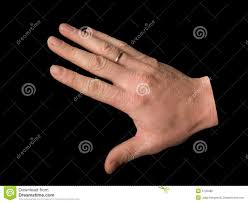hand: (35, 13, 217, 180)
